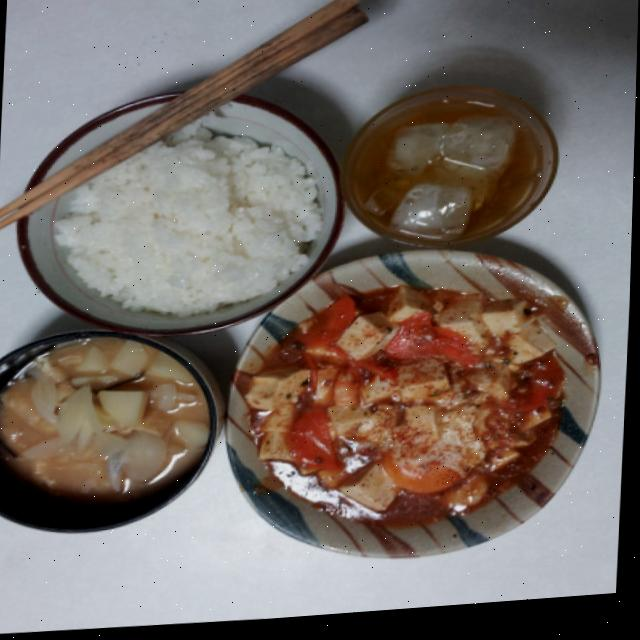米饭主食: (1, 87, 357, 353)
